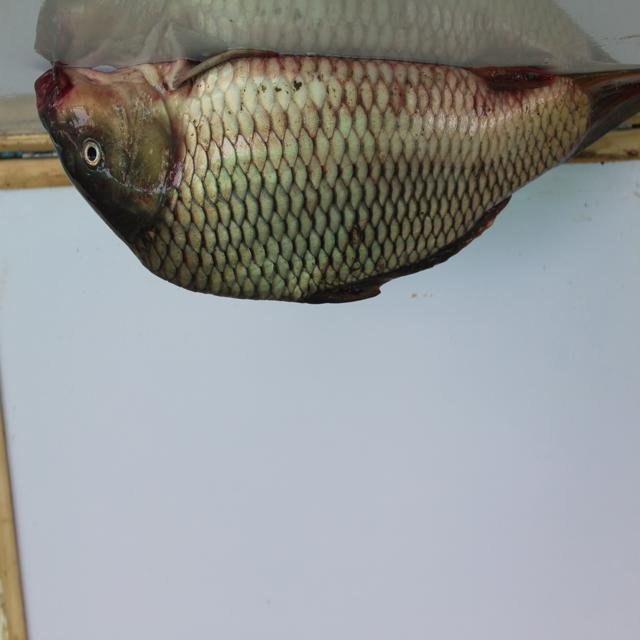CommonCarp: (35, 52, 640, 312)
